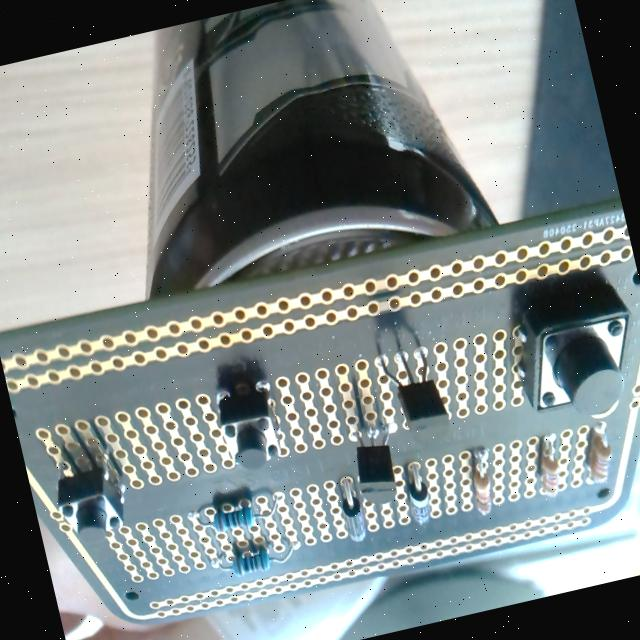diode: (399, 458, 436, 528), (335, 476, 369, 543)
resistor: (461, 446, 502, 517), (578, 422, 619, 485), (530, 434, 568, 500), (210, 500, 258, 535), (230, 545, 272, 578)
switch: (501, 278, 640, 425), (46, 445, 134, 546), (208, 374, 287, 476)
transistor: (376, 336, 454, 442), (340, 404, 410, 511)
